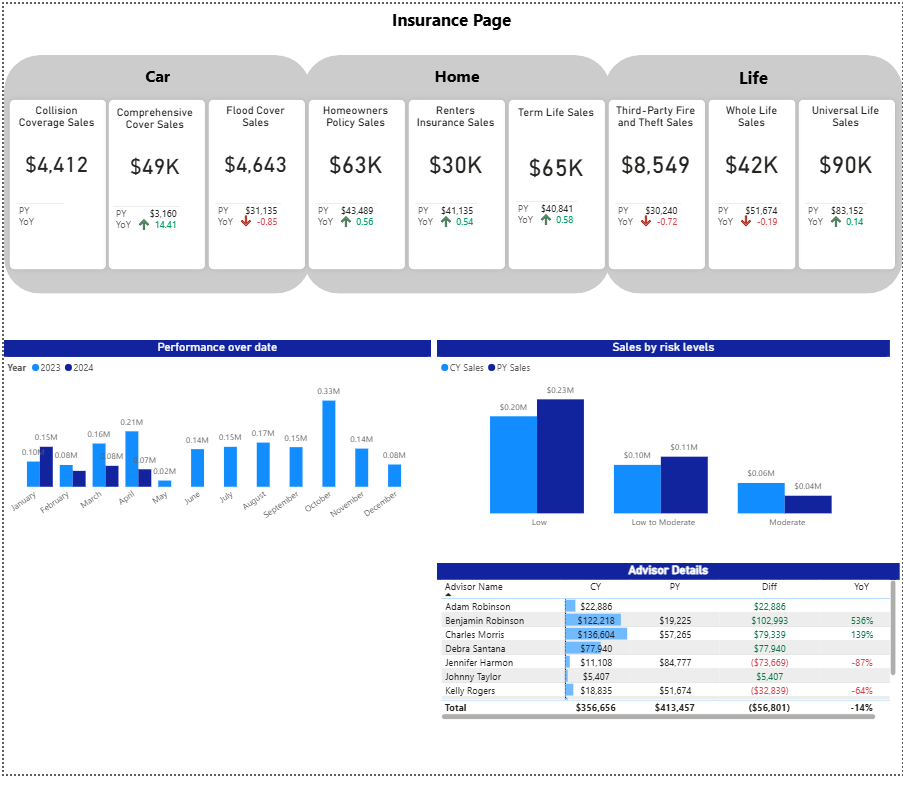

Layout of this report page (visuals, bound fields, positions):
{"tool":"powerbi","page":{"name":"Insurance","canvas":[1284,1100],"ordinal":2},"visuals":[{"type":"shape","box":[713.1,128.1,154,258.6],"z":0,"group":"g1"},{"type":"shape","box":[-0.3,128.4,154,258.6],"z":0,"group":"g2"},{"type":"shape","box":[142,128.4,154,258.6],"z":0,"group":"g3"},{"type":"shape","box":[284.7,128.4,154,258.6],"z":0,"group":"g4"},{"type":"shape","box":[427.4,128.4,154,258.6],"z":0,"group":"g5"},{"type":"shape","box":[570.1,128.4,154,258.6],"z":0,"group":"g6"},{"type":"shape","box":[855.5,128.4,154,258.6],"z":0,"group":"g7"},{"type":"shape","box":[998.2,128.4,140,258.6],"z":0,"group":"g8"},{"type":"shape","box":[1126.9,128.4,154,258.6],"z":0,"group":"g9"},{"type":"shape","box":[857,73,427,341],"z":1500},{"type":"shape","box":[427,73,440,341],"z":2000},{"type":"shape","box":[0,73,439,341],"z":2500},{"type":"group","id":"g1","title":"Group 1","box":[713.1,128.1,154,258.6],"z":2500,"group":"g15"},{"type":"group","id":"g2","title":"Group 1","box":[-0.3,128.4,154,258.6],"z":2500,"group":"g10"},{"type":"group","id":"g3","title":"Group 1","box":[142,128.4,154,258.6],"z":2500,"group":"g11"},{"type":"group","id":"g4","title":"Group 1","box":[284.7,128.4,154,258.6],"z":2500,"group":"g12"},{"type":"group","id":"g5","title":"Group 1","box":[427.4,128.4,154,258.6],"z":2500,"group":"g13"},{"type":"group","id":"g6","title":"Group 1","box":[570.1,128.4,154,258.6],"z":2500,"group":"g14"},{"type":"group","id":"g7","title":"Group 1","box":[855.5,128.4,154,258.6],"z":2500,"group":"g16"},{"type":"group","id":"g8","title":"Group 1","box":[998.2,128.4,140,258.6],"z":2500,"group":"g18"},{"type":"group","id":"g9","title":"Group 1","box":[1126.9,128.4,154,258.6],"z":2500,"group":"g17"},{"type":"textbox","box":[7.9,0,1264.3,50],"z":3000},{"type":"group","id":"g10","title":"Group 2","box":[-0.3,128.4,154,258.6],"z":4000},{"type":"card","fields":{"Values":["Sales.CY Sales"]},"box":[11.6,141.5,127.3,134.3],"z":4000,"group":"g2"},{"type":"card","fields":{"Values":["Sales.CY Sales"]},"box":[296.6,141.5,127.3,134.3],"z":4000,"group":"g4"},{"type":"card","fields":{"Values":["Sales.CY Sales"]},"box":[439.3,141.5,127.3,134.3],"z":4000,"group":"g5"},{"type":"card","fields":{"Values":["Sales.CY Sales"]},"box":[582,141.5,127.3,134.3],"z":4000,"group":"g6"},{"type":"card","fields":{"Values":["Sales.CY Sales"]},"box":[867.4,141.5,127.3,134.3],"z":4000,"group":"g7"},{"type":"card","fields":{"Values":["Sales.CY Sales"]},"box":[1009,141.5,115.7,134.3],"z":4000,"group":"g8"},{"type":"card","fields":{"Values":["Sales.CY Sales"]},"box":[1138.8,141.5,127.3,134.3],"z":4000,"group":"g9"},{"type":"card","fields":{"Values":["Sales.CY Sales"]},"box":[729.5,144.1,120,155.6],"z":4000,"group":"g1"},{"type":"card","fields":{"Values":["Sales.CY Sales"]},"box":[156.8,144.3,119.4,134.3],"z":4000,"group":"g3"},{"type":"pivotTable","fields":{"Values":["Sales.PY Sales","Sales.YoY Sales"]},"box":[725,251.3,132.2,104.4],"z":4000,"group":"g15"},{"type":"pivotTable","fields":{"Values":["Sales.PY Sales","Sales.YoY Sales"]},"box":[11.4,253.8,126.7,102.1],"z":4000,"group":"g10"},{"type":"pivotTable","fields":{"Values":["Sales.PY Sales","Sales.YoY Sales"]},"box":[296.6,253.8,128.9,102.1],"z":4000,"group":"g12"},{"type":"pivotTable","fields":{"Values":["Sales.PY Sales","Sales.YoY Sales"]},"box":[439.3,253.8,128.9,102.1],"z":4000,"group":"g13"},{"type":"pivotTable","fields":{"Values":["Sales.PY Sales","Sales.YoY Sales"]},"box":[582,253.8,128.9,102.1],"z":4000,"group":"g14"},{"type":"pivotTable","fields":{"Values":["Sales.PY Sales","Sales.YoY Sales"]},"box":[867.4,253.8,128.9,102.1],"z":4000,"group":"g16"},{"type":"pivotTable","fields":{"Values":["Sales.PY Sales","Sales.YoY Sales"]},"box":[1009,253.8,117.1,102.1],"z":4000,"group":"g18"},{"type":"pivotTable","fields":{"Values":["Sales.PY Sales","Sales.YoY Sales"]},"box":[1138.8,253.8,128.9,102.1],"z":4000,"group":"g17"},{"type":"pivotTable","fields":{"Values":["Sales.PY Sales","Sales.YoY Sales"]},"box":[150,258.6,117.1,101.4],"z":4000,"group":"g11"},{"type":"group","id":"g11","title":"Group 2","box":[142,128.4,154,258.6],"z":5000},{"type":"group","id":"g12","title":"Group 2","box":[284.7,128.4,154,258.6],"z":6000},{"type":"group","id":"g13","title":"Group 2","box":[427.4,128.4,154,258.6],"z":7000},{"type":"group","id":"g14","title":"Group 2","box":[570.1,128.4,154,258.6],"z":8000},{"type":"group","id":"g15","title":"Group 2","box":[713.1,128.1,154,258.6],"z":9000},{"type":"group","id":"g16","title":"Group 2","box":[855.5,128.4,154,258.6],"z":10000},{"type":"group","id":"g17","title":"Group 2","box":[1126.9,128.4,152.9,258.6],"z":11000},{"type":"group","id":"g18","title":"Group 2","box":[998.2,128.4,140,258.6],"z":12000},{"type":"clusteredColumnChart","title":"Performance over date","fields":{"Category":["Sales.record_date.Variation.Date Hierarchy.Year","Sales.record_date.Variation.Date Hierarchy.Quarter","Sales.record_date.Variation.Date Hierarchy.Month","Sales.record_date.Variation.Date Hierarchy.Day"],"Y":["Sum(Sales.sales_amount)"],"Series":["Sales.record_date.Variation.Date Hierarchy.Year"]},"box":[0,480,610,278],"z":12001},{"type":"clusteredColumnChart","title":"Sales by risk levels","fields":{"Category":["Product.product_risk_level"],"Y":["Sales.CY Sales","Sales.PY Sales"]},"box":[619,480,647,278],"z":12002},{"type":"tableEx","title":"Advisor Details","fields":{"Values":["Advisor.advisor_name","Option.CY","Option.PY","Option.Diff","Option.YoY"]},"box":[619,798,661,229],"z":12003}]}

Visuals, with their boxes in screenshot pixels (x1, y1, x2, y2), scaled from the page's 1284x1100 canvas onto the 903x790 screenshot:
shape: l=502, t=92, r=610, b=278
shape: l=0, t=92, r=108, b=278
shape: l=100, t=92, r=208, b=278
shape: l=200, t=92, r=309, b=278
shape: l=301, t=92, r=409, b=278
shape: l=401, t=92, r=509, b=278
shape: l=602, t=92, r=710, b=278
shape: l=702, t=92, r=800, b=278
shape: l=793, t=92, r=901, b=278
shape: l=603, t=52, r=902, b=297
shape: l=300, t=52, r=610, b=297
shape: l=0, t=52, r=309, b=297
"Group 1" group: l=502, t=92, r=610, b=278
"Group 1" group: l=0, t=92, r=108, b=278
"Group 1" group: l=100, t=92, r=208, b=278
"Group 1" group: l=200, t=92, r=309, b=278
"Group 1" group: l=301, t=92, r=409, b=278
"Group 1" group: l=401, t=92, r=509, b=278
"Group 1" group: l=602, t=92, r=710, b=278
"Group 1" group: l=702, t=92, r=800, b=278
"Group 1" group: l=793, t=92, r=901, b=278
textbox: l=6, t=0, r=895, b=36
"Group 2" group: l=0, t=92, r=108, b=278
card - Sales.CY Sales: l=8, t=102, r=98, b=198
card - Sales.CY Sales: l=209, t=102, r=298, b=198
card - Sales.CY Sales: l=309, t=102, r=398, b=198
card - Sales.CY Sales: l=409, t=102, r=499, b=198
card - Sales.CY Sales: l=610, t=102, r=700, b=198
card - Sales.CY Sales: l=710, t=102, r=791, b=198
card - Sales.CY Sales: l=801, t=102, r=890, b=198
card - Sales.CY Sales: l=513, t=103, r=597, b=215
card - Sales.CY Sales: l=110, t=104, r=194, b=200
pivotTable - Sales.PY Sales x Sales.YoY Sales: l=510, t=180, r=603, b=255
pivotTable - Sales.PY Sales x Sales.YoY Sales: l=8, t=182, r=97, b=256
pivotTable - Sales.PY Sales x Sales.YoY Sales: l=209, t=182, r=299, b=256
pivotTable - Sales.PY Sales x Sales.YoY Sales: l=309, t=182, r=400, b=256
pivotTable - Sales.PY Sales x Sales.YoY Sales: l=409, t=182, r=500, b=256
pivotTable - Sales.PY Sales x Sales.YoY Sales: l=610, t=182, r=701, b=256
pivotTable - Sales.PY Sales x Sales.YoY Sales: l=710, t=182, r=792, b=256
pivotTable - Sales.PY Sales x Sales.YoY Sales: l=801, t=182, r=892, b=256
pivotTable - Sales.PY Sales x Sales.YoY Sales: l=105, t=186, r=188, b=259
"Group 2" group: l=100, t=92, r=208, b=278
"Group 2" group: l=200, t=92, r=309, b=278
"Group 2" group: l=301, t=92, r=409, b=278
"Group 2" group: l=401, t=92, r=509, b=278
"Group 2" group: l=502, t=92, r=610, b=278
"Group 2" group: l=602, t=92, r=710, b=278
"Group 2" group: l=793, t=92, r=900, b=278
"Group 2" group: l=702, t=92, r=800, b=278
"Performance over date" clusteredColumnChart: l=0, t=345, r=429, b=544
"Sales by risk levels" clusteredColumnChart: l=435, t=345, r=890, b=544
"Advisor Details" tableEx: l=435, t=573, r=900, b=738
